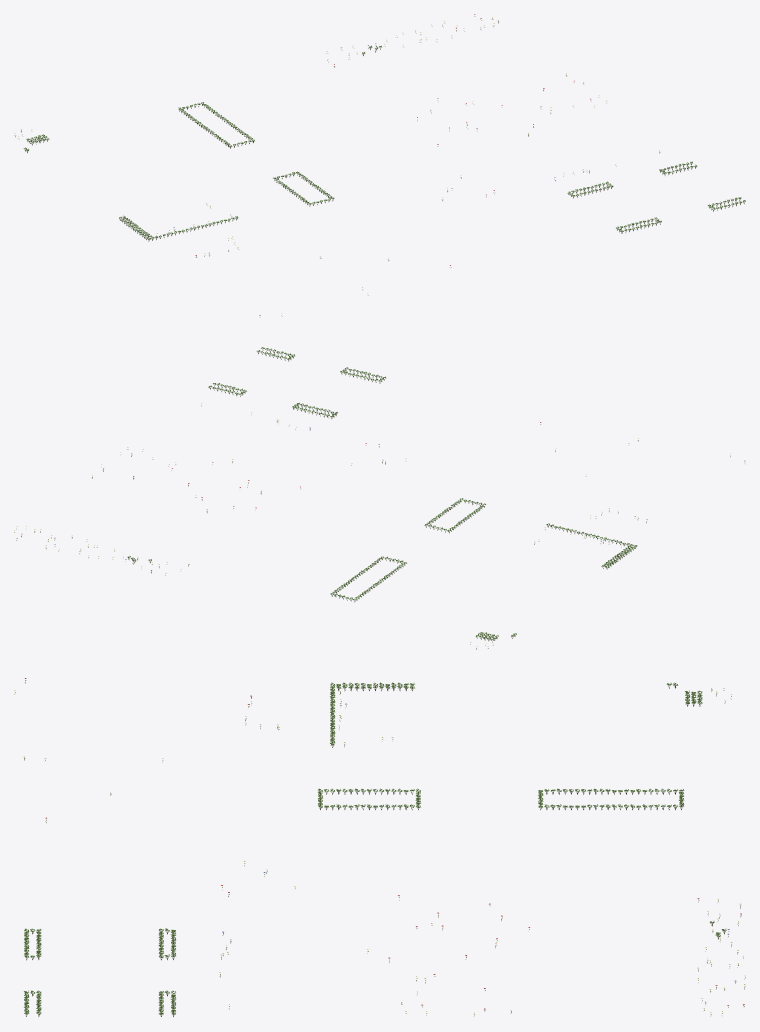
The picture shows the model from 3 angles, top to bottom: view 1: azimuth 30°, elevation 25°; view 2: azimuth 150°, elevation 25°; view 3: azimuth 270°, elevation 25°; orthographic projection. The views are drawn at different scales.
Parts seen in each view (by area): view 1: GROUND_FLORA_s_-6_1; view 2: GROUND_FLORA_s_-6_1; view 3: GROUND_FLORA_s_-6_1.
Part boxes in pixels (box(x1,y1,x2,y2)): GROUND_FLORA_s_-6_1: box(14, 14, 745, 317); GROUND_FLORA_s_-6_1: box(14, 347, 745, 649); GROUND_FLORA_s_-6_1: box(14, 678, 745, 1016).
Bounding box in the file's own units: 128 × 1.91 × 120.
